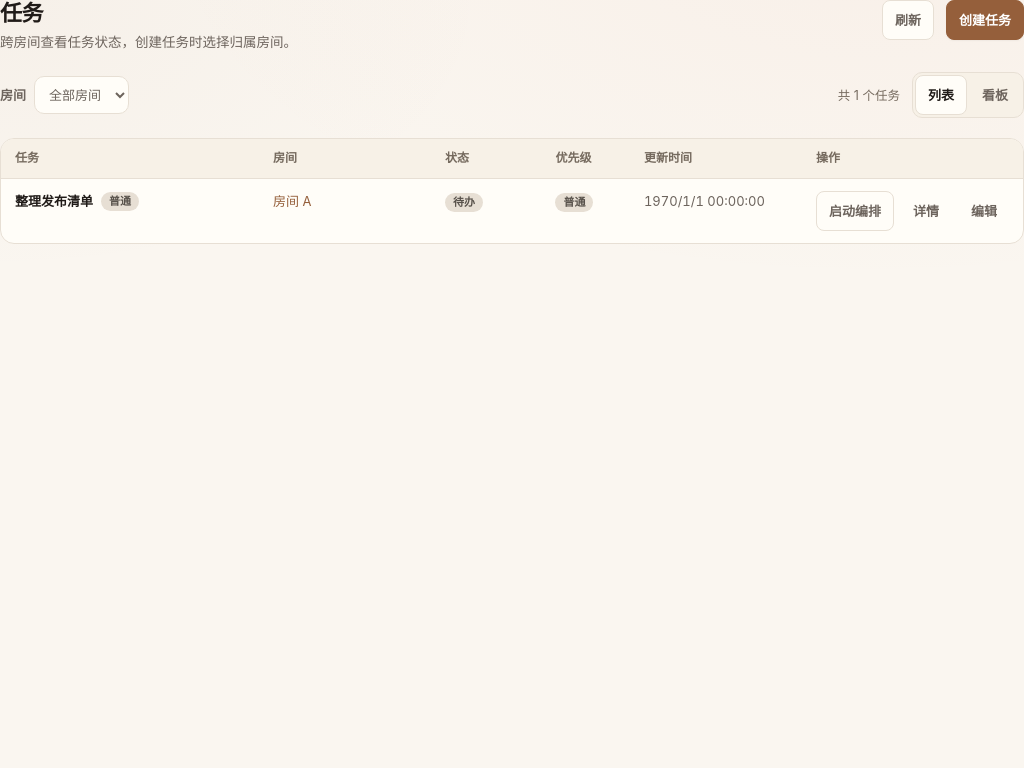
TasksPage 右键菜单 › 菜单动作打开详情、编辑与启动编排
The image size is (1024, 768).
Later steps or results of the test are not shown.
Right-click the text "整理发布清单": coordinates (54, 201) [1,178,1023,243]
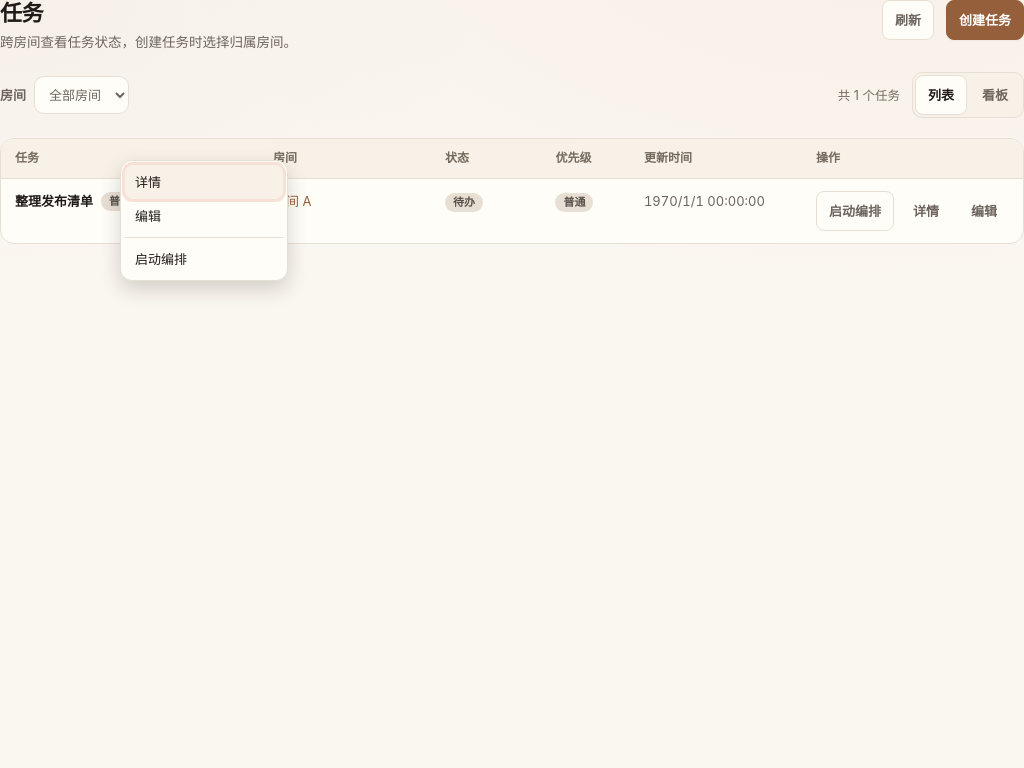
Click the menu item "详情": coordinates (204, 182) [125,165,283,199]
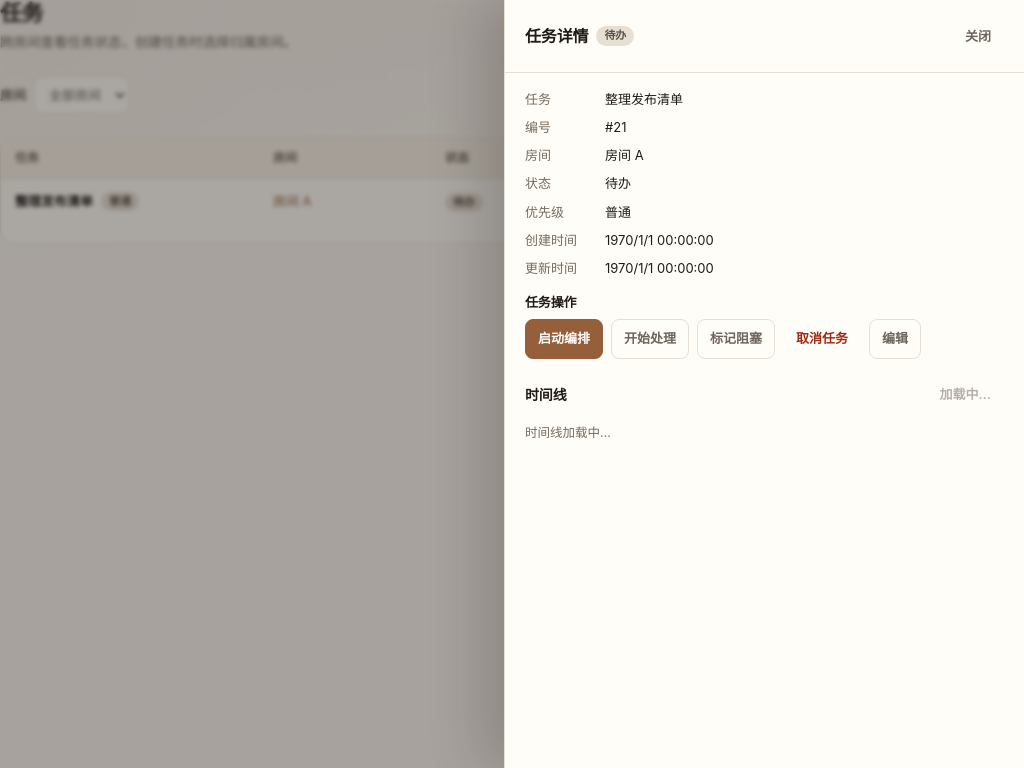
Expected: the dialog "任务详情" is shown, [504,0,1023,767]
Click the button with aria-label "关闭任务详情": coordinates (978, 36) [952,16,1004,56]
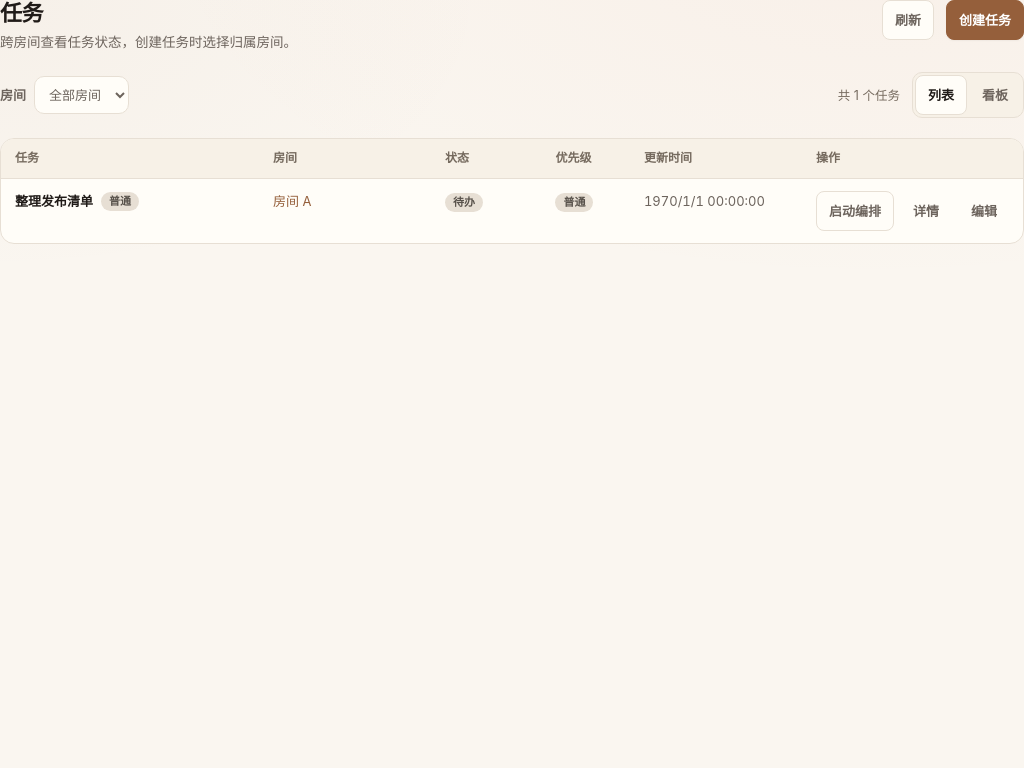
Expected: the heading "任务详情" is gone
Right-click the text "整理发布清单": coordinates (54, 201) [1,178,1023,243]
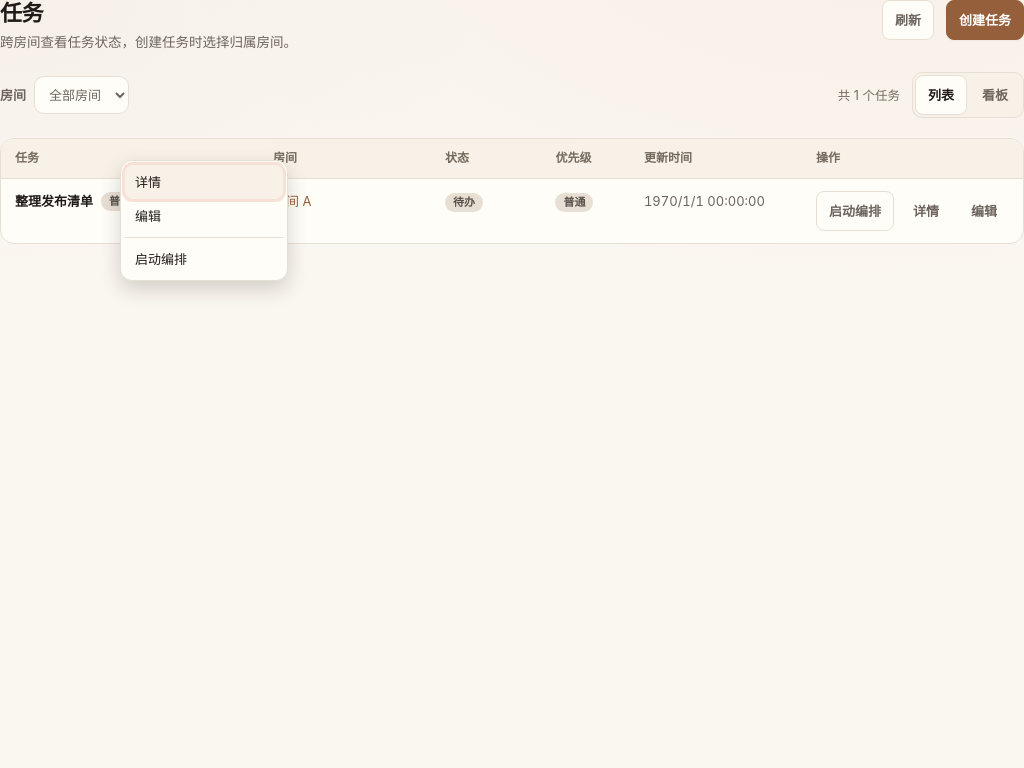
Click the menu item "编辑": coordinates (204, 216) [125,199,283,233]
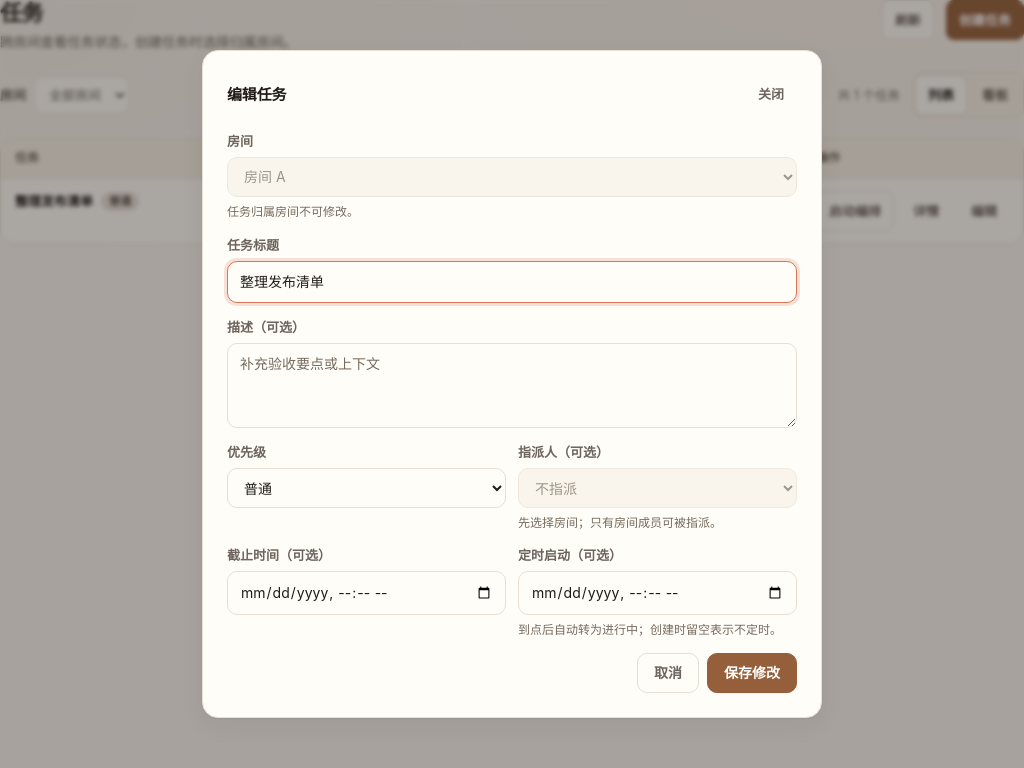
Click the button "取消": coordinates (668, 674) [637,654,699,694]
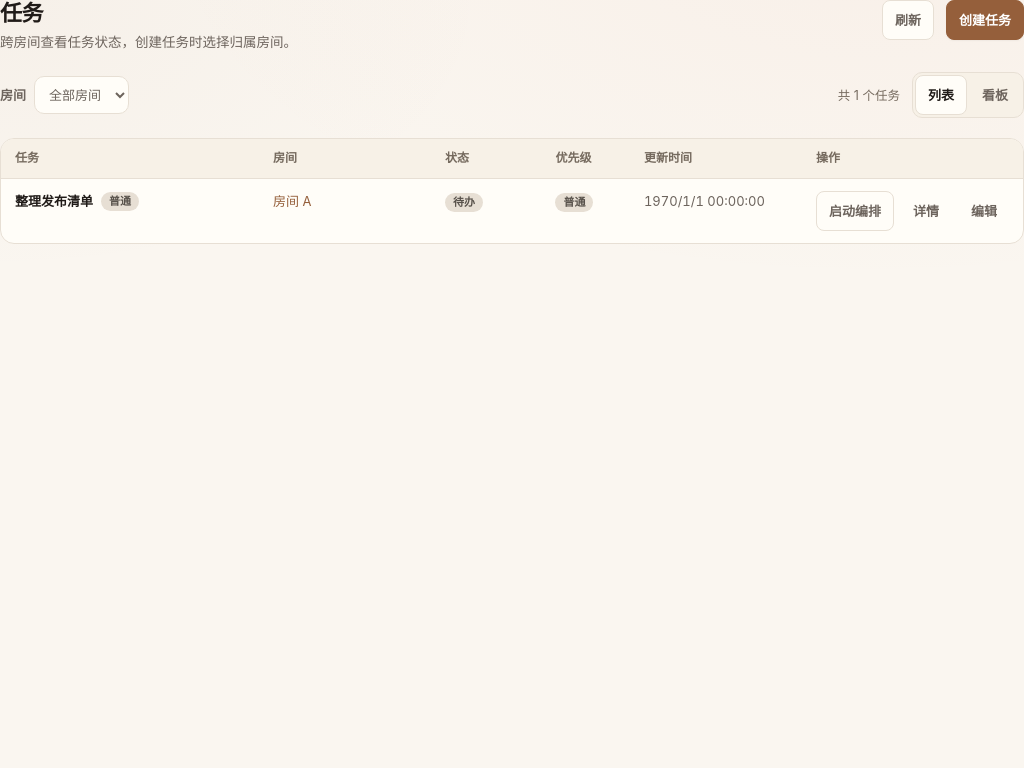
Expected: the heading "编辑任务" is gone
